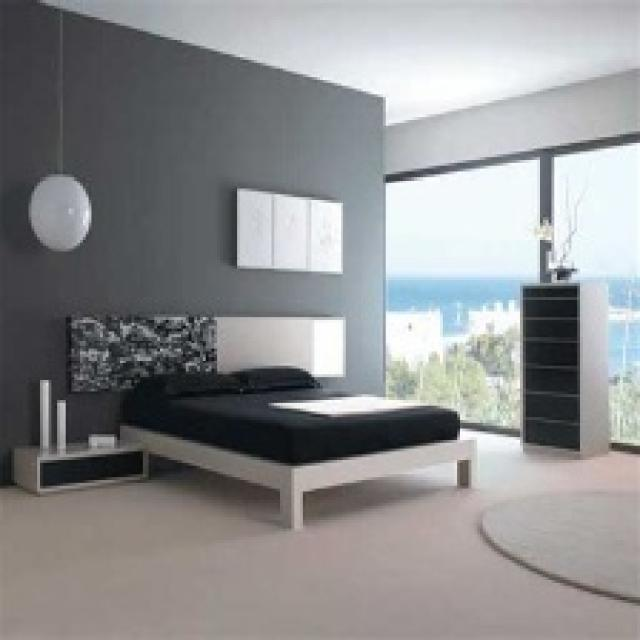Bed: (117, 363, 477, 528)
